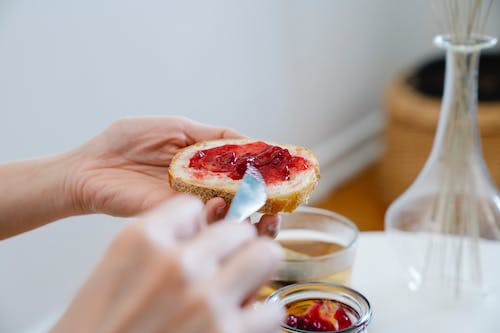knife: (222, 163, 269, 222)
